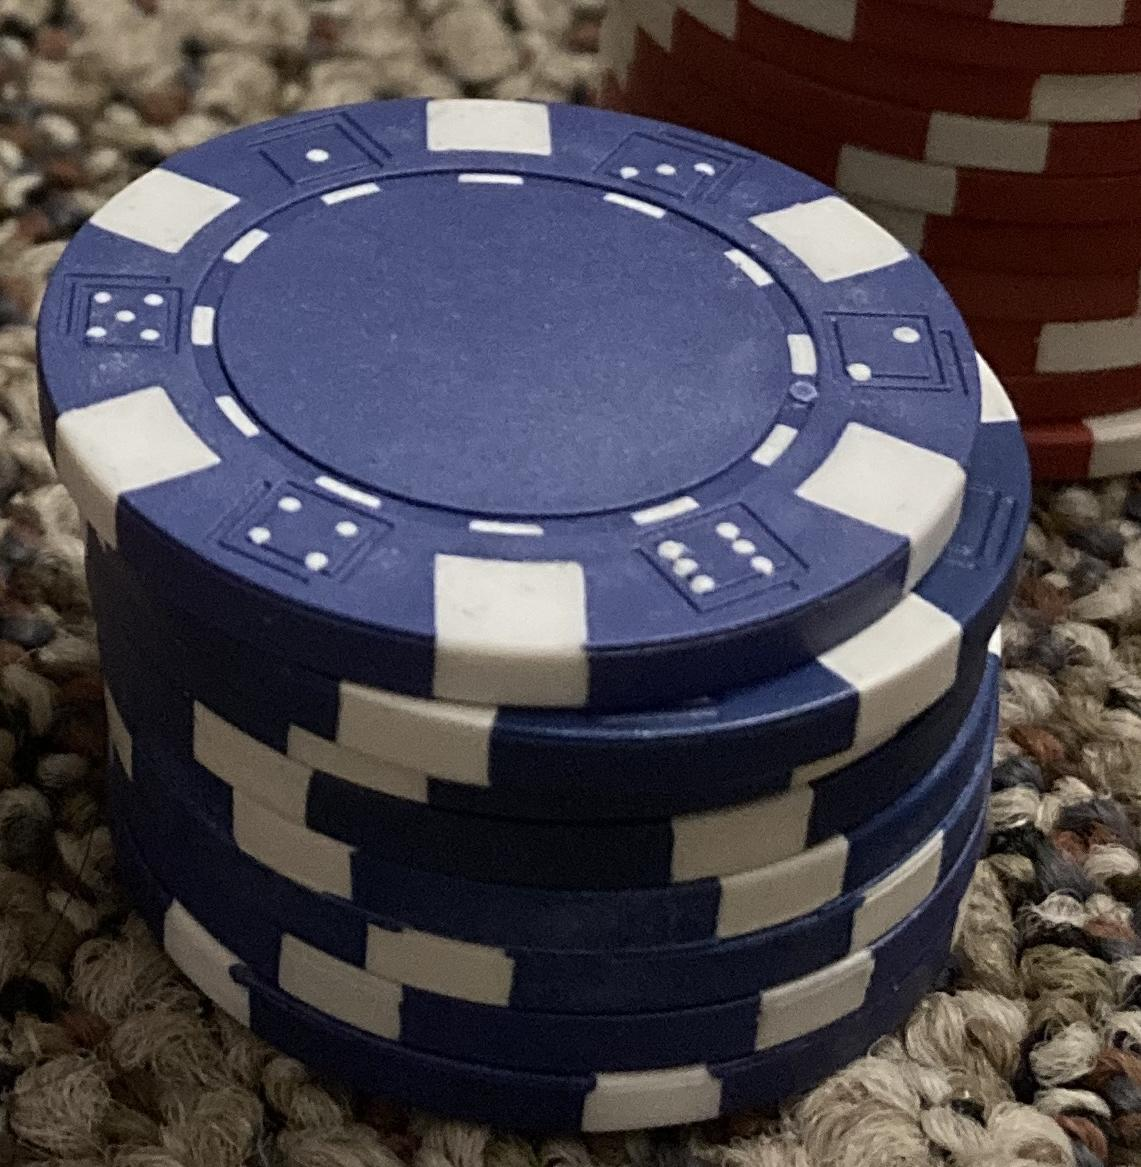Chip: (1, 1, 1141, 1167)
